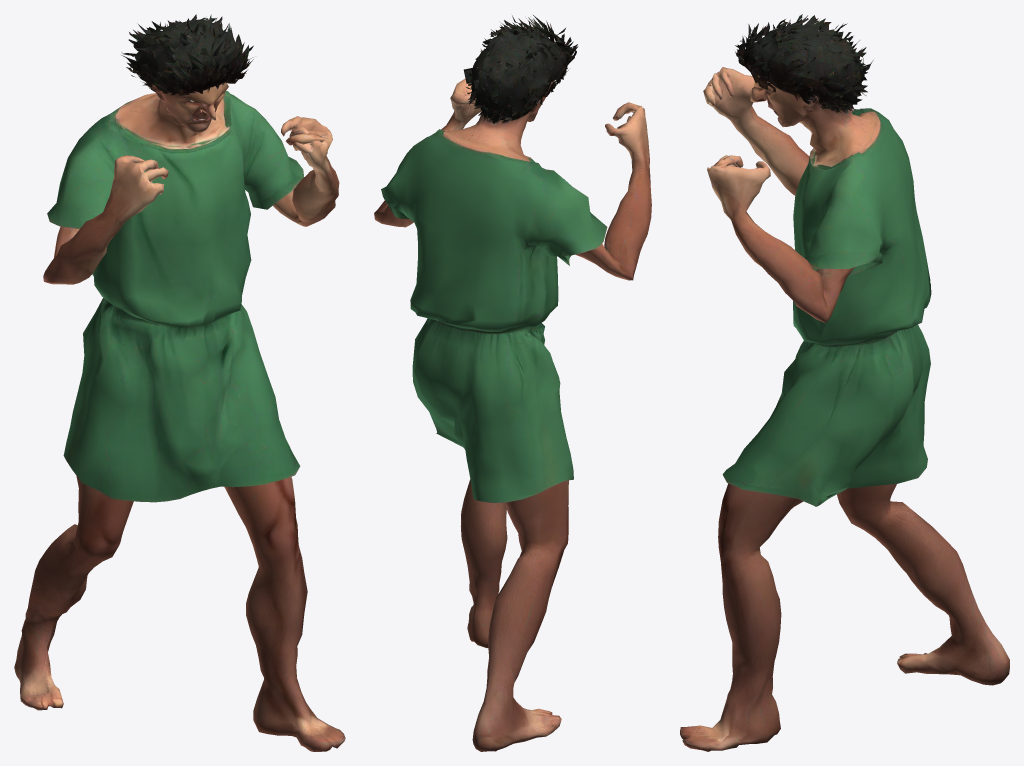
The model's file is youth_m3_cheer.glb.
3 views of the same model, side by side, from view 1: azimuth 30°, elevation 25°; view 2: azimuth 150°, elevation 25°; view 3: azimuth 270°, elevation 25° (orthographic). The views are drawn at different scales.
Size of the model in its own units: 0.417 by 1 by 0.4326.
Materials: 1 (1 with a texture image).
